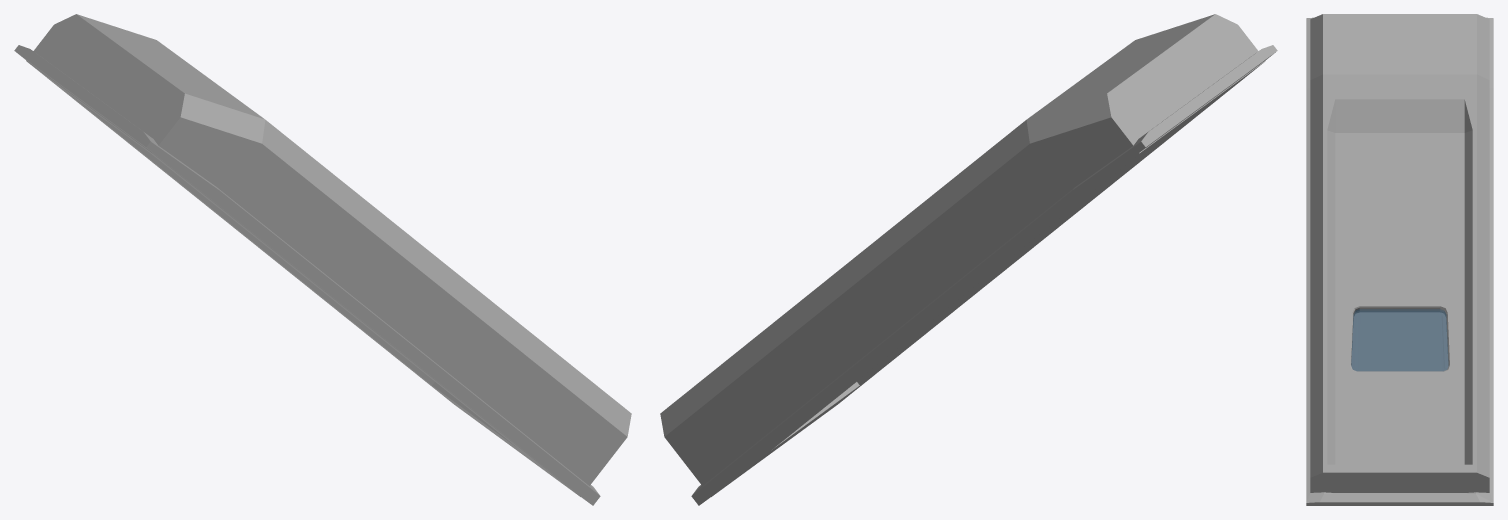
The model's file is CryoPodHatch.fbx.
3 renders of one model, left to right at view 1: azimuth 30°, elevation 25°; view 2: azimuth 150°, elevation 25°; view 3: azimuth 270°, elevation 25°, orthographic. The views are drawn at different scales.
Visible parts, largest first — view 1: CryPodHatch; view 2: CryPodHatch; view 3: CryPodHatch.
Boxes of the visible parts, <box> form: CryPodHatch: <box>14,14,631,505</box>; CryPodHatch: <box>660,14,1277,505</box>; CryPodHatch: <box>1306,14,1493,505</box>.
Size of the model in its own units: 21.61 by 20.79 by 9.94.
